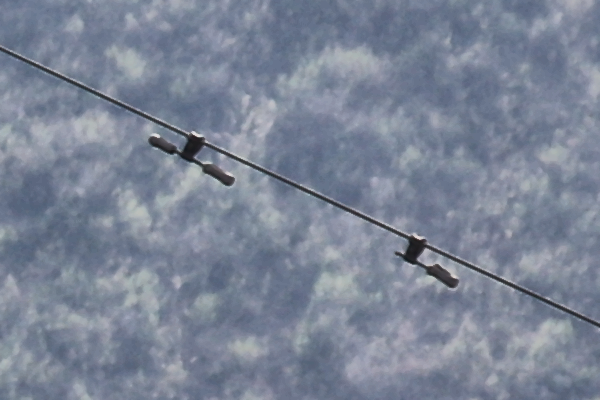damper: (147, 126, 238, 190)
damper_defect: (387, 229, 463, 291)
